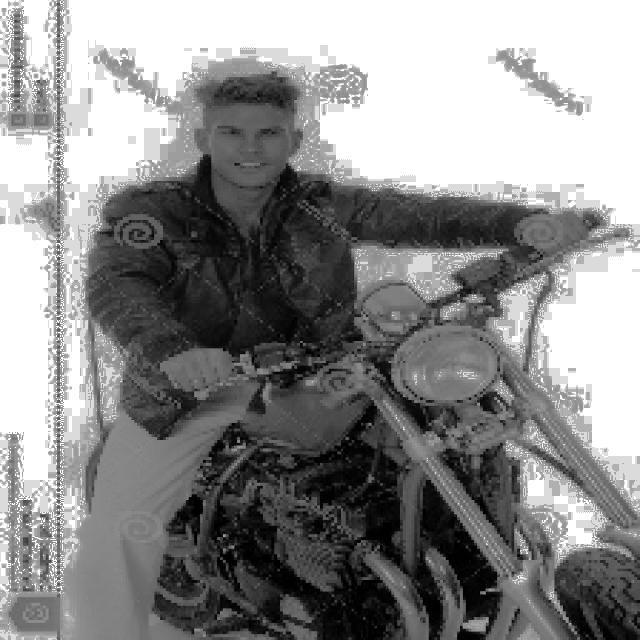Bike: (176, 330, 636, 634)
